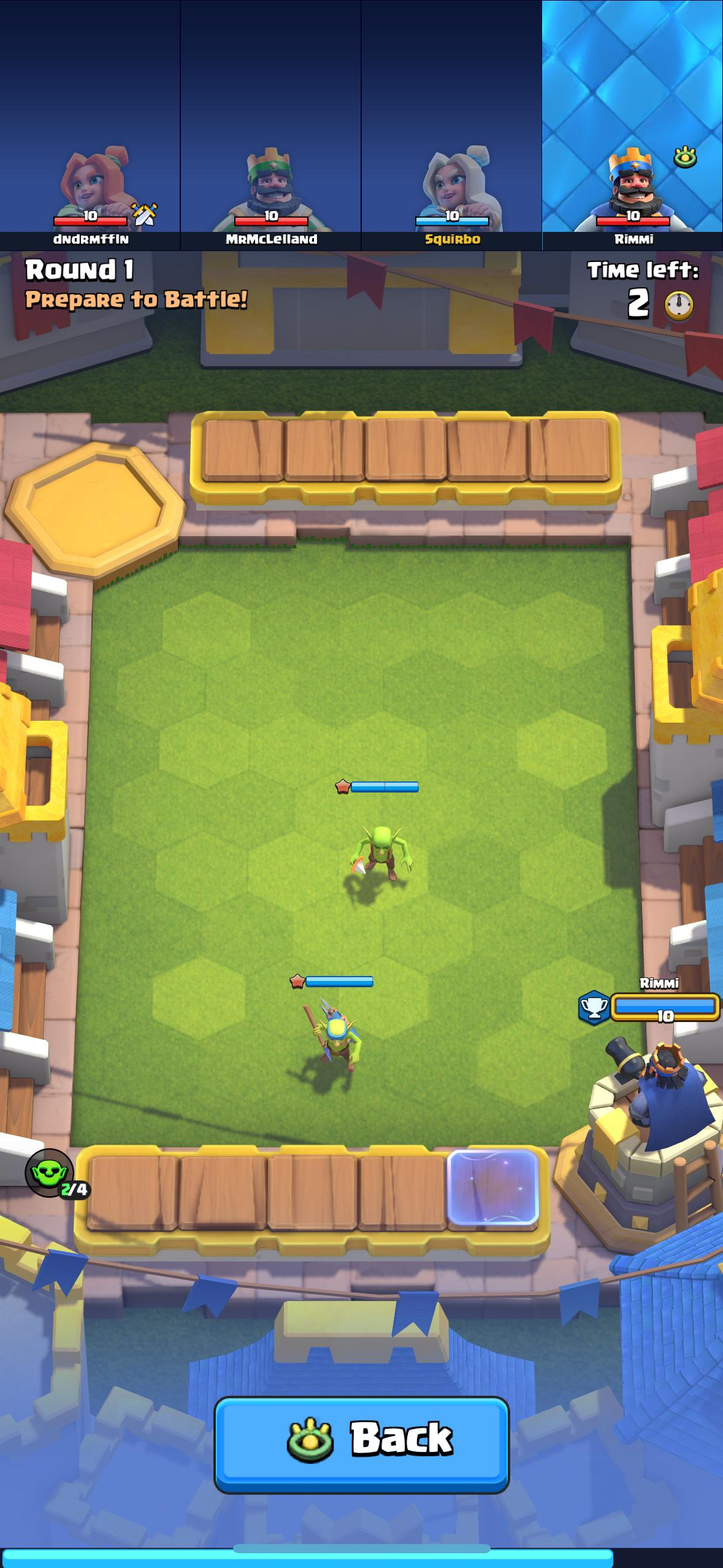goblin: (345, 816, 421, 889)
spear: (302, 991, 366, 1074)
